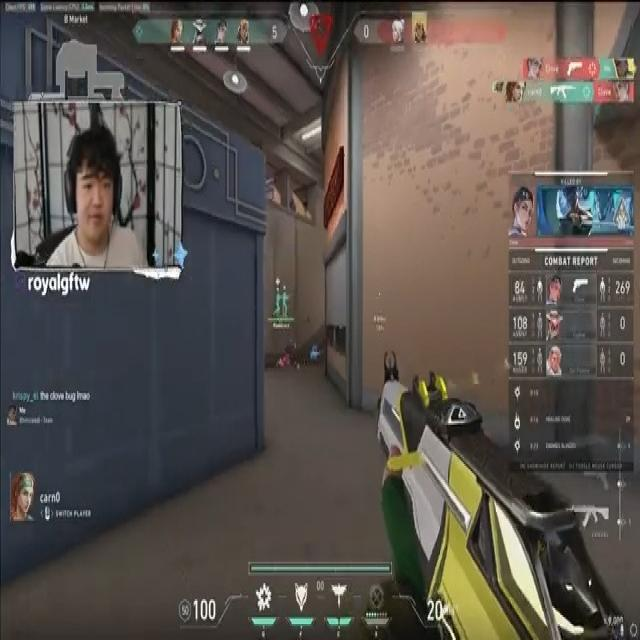ally behind wall: (280, 293, 292, 323), (273, 288, 282, 320)
